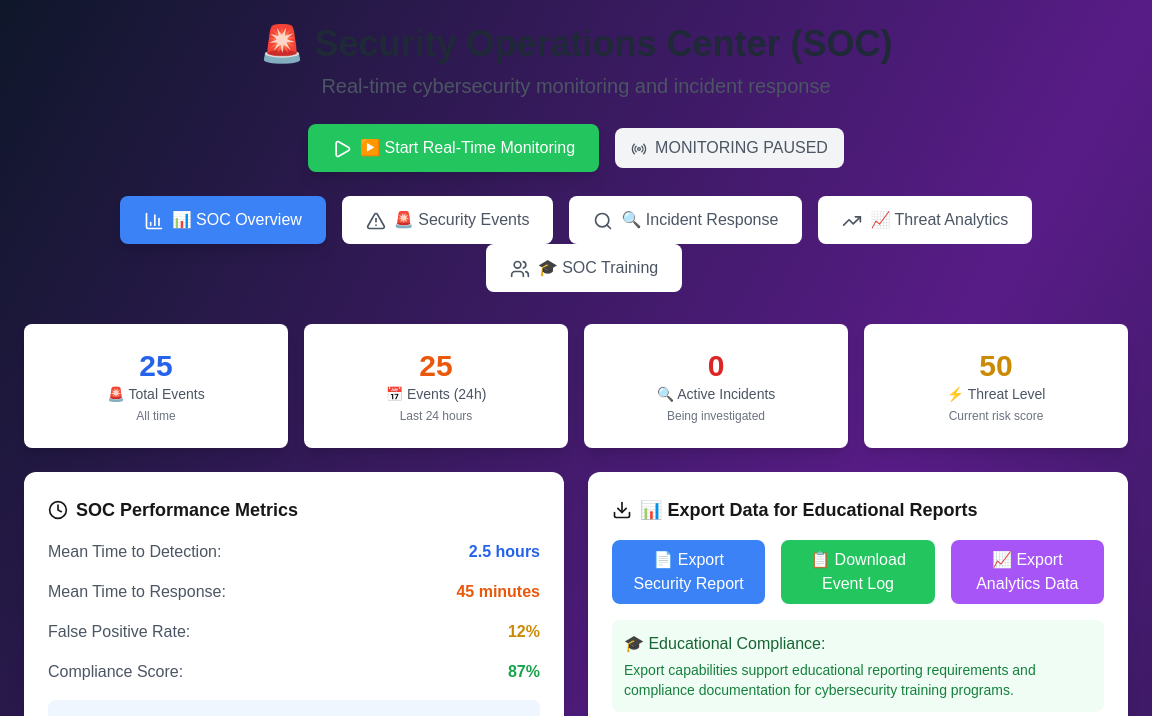
Test: 🛡️ SecurityMonitoringDashboard - Educational Safety Tests › 🔍 Event Management & Teacher Controls › should provide filtering capabilities for teacher workflow
Click the button "🚨 Security Events": (448, 220) [342,196,554,244]
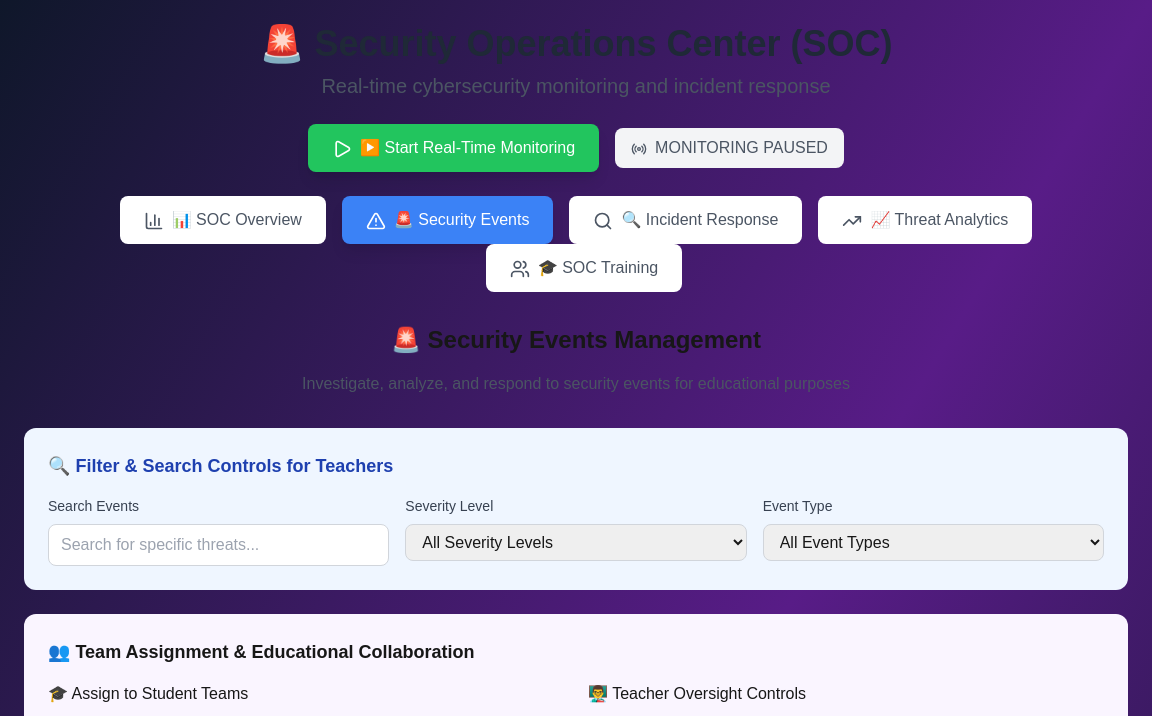
Check: the text "🔍 Filter & Search Controls for Teachers" is shown, box [48,456,393,476]
